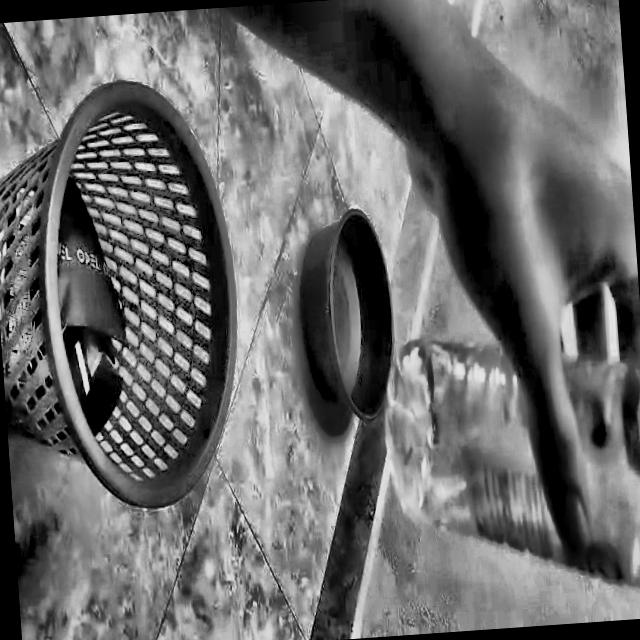Empty: (49, 90, 240, 540)
